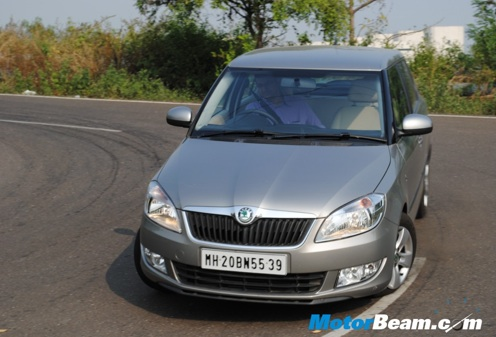number_plate: (199, 245, 293, 276)
